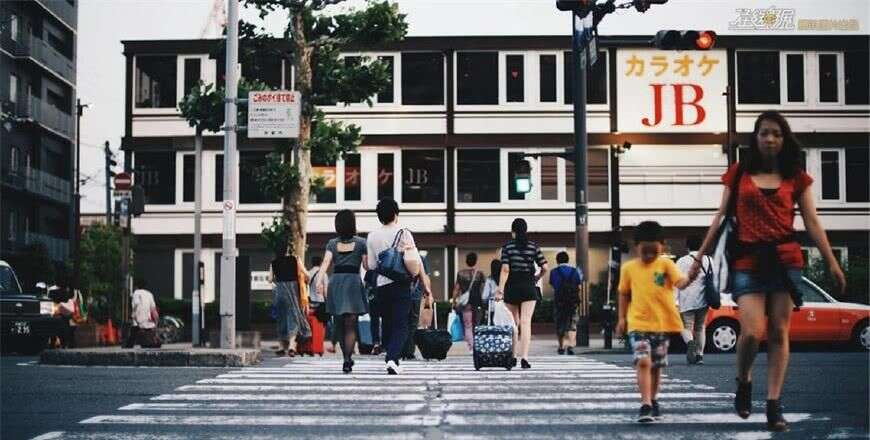people: (710, 112, 816, 430), (612, 222, 690, 421), (364, 198, 423, 372), (497, 218, 547, 359), (322, 209, 363, 371), (671, 235, 716, 363), (271, 243, 303, 355), (548, 251, 582, 355), (454, 254, 485, 353), (302, 255, 327, 344), (129, 280, 156, 349), (484, 258, 505, 340)
